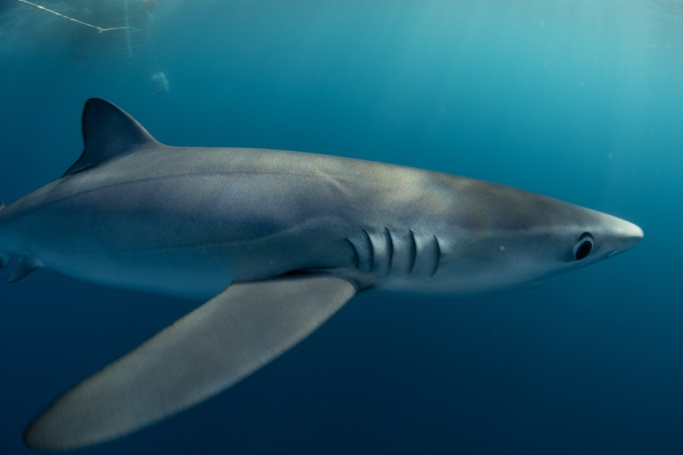Azul: (1, 79, 660, 453)
